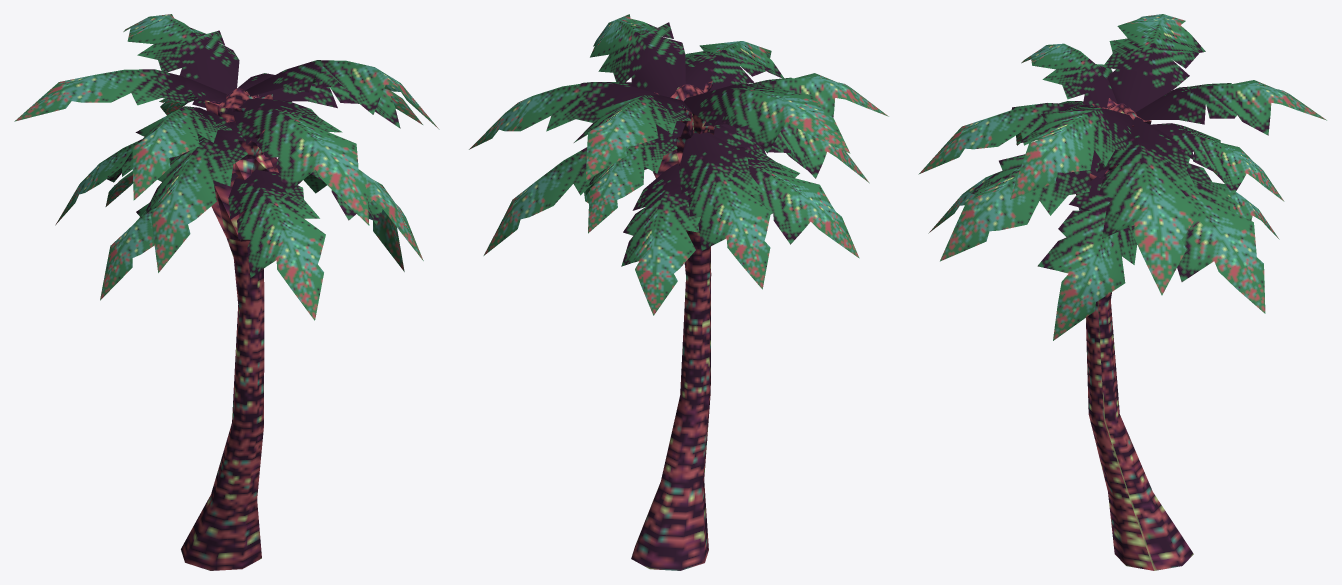
The model's file is palmtree_01.fbx.
3 views of the same model, side by side, from view 1: azimuth 30°, elevation 25°; view 2: azimuth 150°, elevation 25°; view 3: azimuth 270°, elevation 25° (orthographic). The views are drawn at different scales.
Parts seen in each view (by area): view 1: fulltree_02; view 2: fulltree_02; view 3: fulltree_02.
Part boxes in pixels (left/top/right/bottom): fulltree_02: left=14, top=14, right=439, bottom=570; fulltree_02: left=469, top=14, right=888, bottom=570; fulltree_02: left=918, top=14, right=1326, bottom=570.
Bounding box in the file's own units: 13131 × 15710 × 12215.
1 material, 1 textured.
